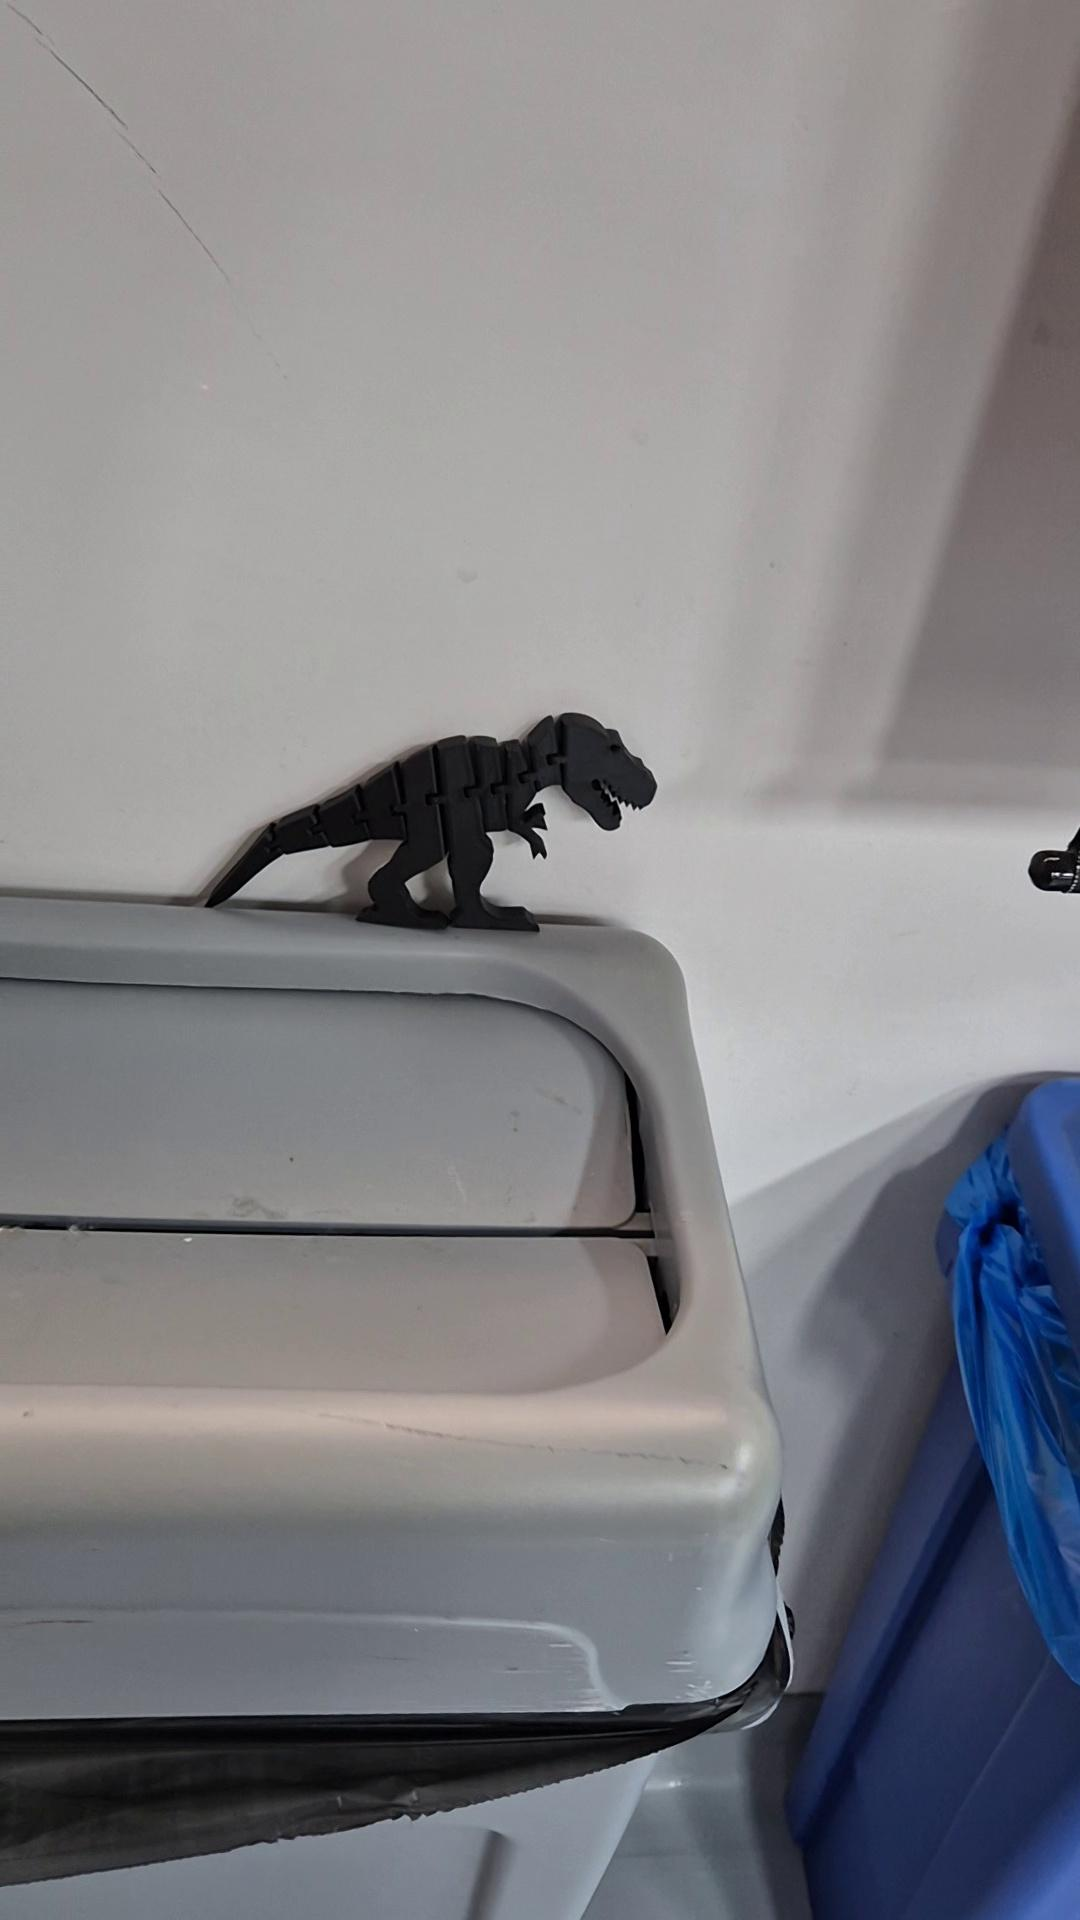dinosaur: (202, 711, 659, 934)
